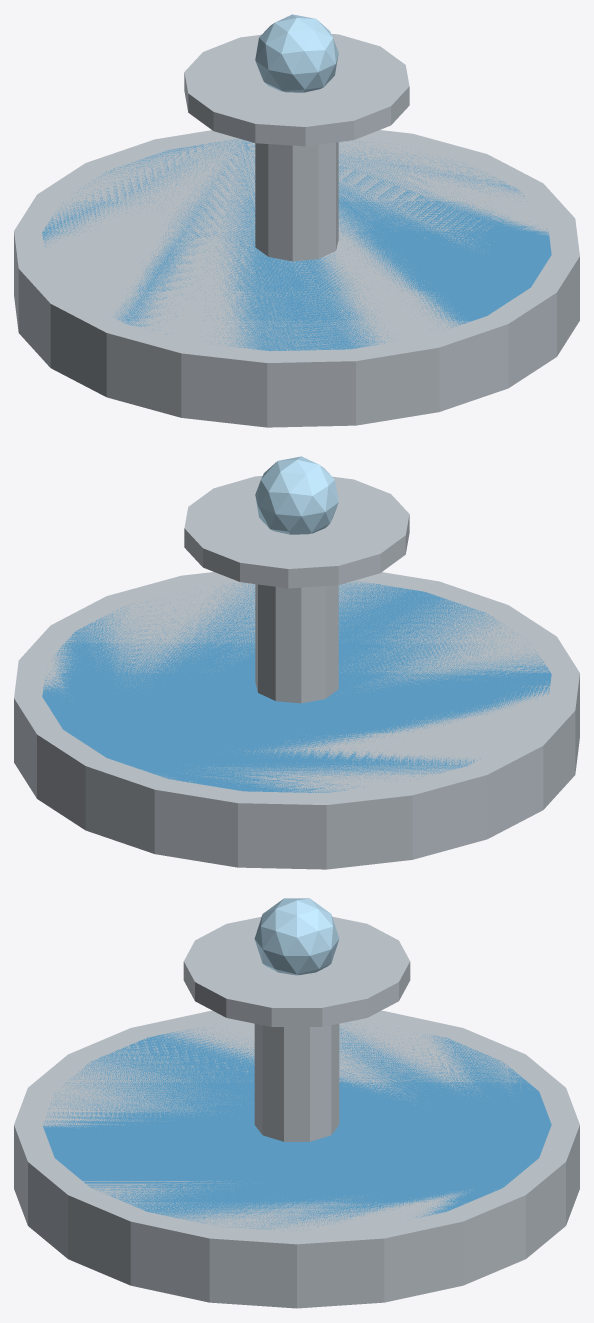
Rendered from Parkour_Fountain.fbx.
3 views of the same model, one above another, from view 1: azimuth 30°, elevation 25°; view 2: azimuth 150°, elevation 25°; view 3: azimuth 270°, elevation 25° (orthographic).
Visible parts, largest first — view 1: Fountain; view 2: Fountain; view 3: Fountain.
Boxes of the visible parts, x1,y1,x2,y2 form: Fountain: (14, 14, 579, 427); Fountain: (14, 456, 579, 869); Fountain: (14, 898, 579, 1308).
Bounding box in the file's own units: 4 × 2.25 × 4.
